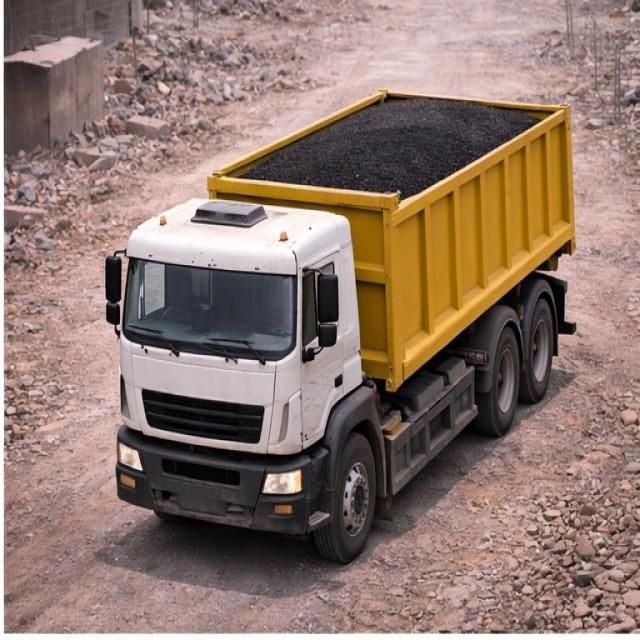Box: (212, 92, 572, 186)
Truck: (102, 71, 580, 537)
